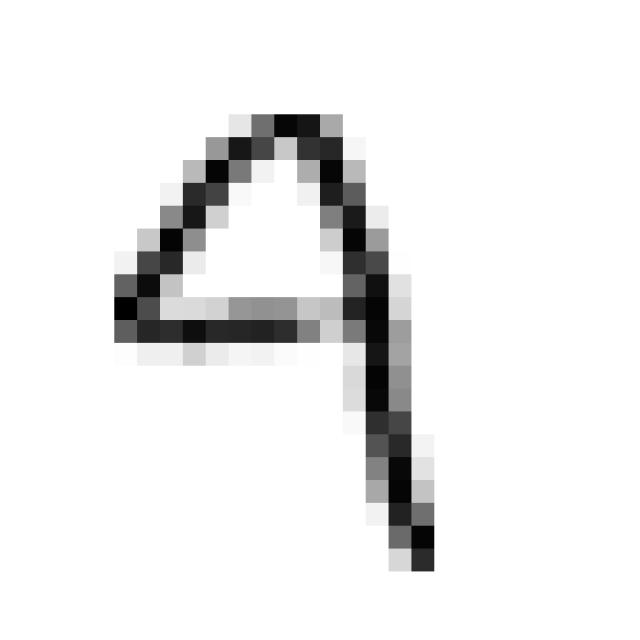9 -nine-: (94, 71, 451, 595)
